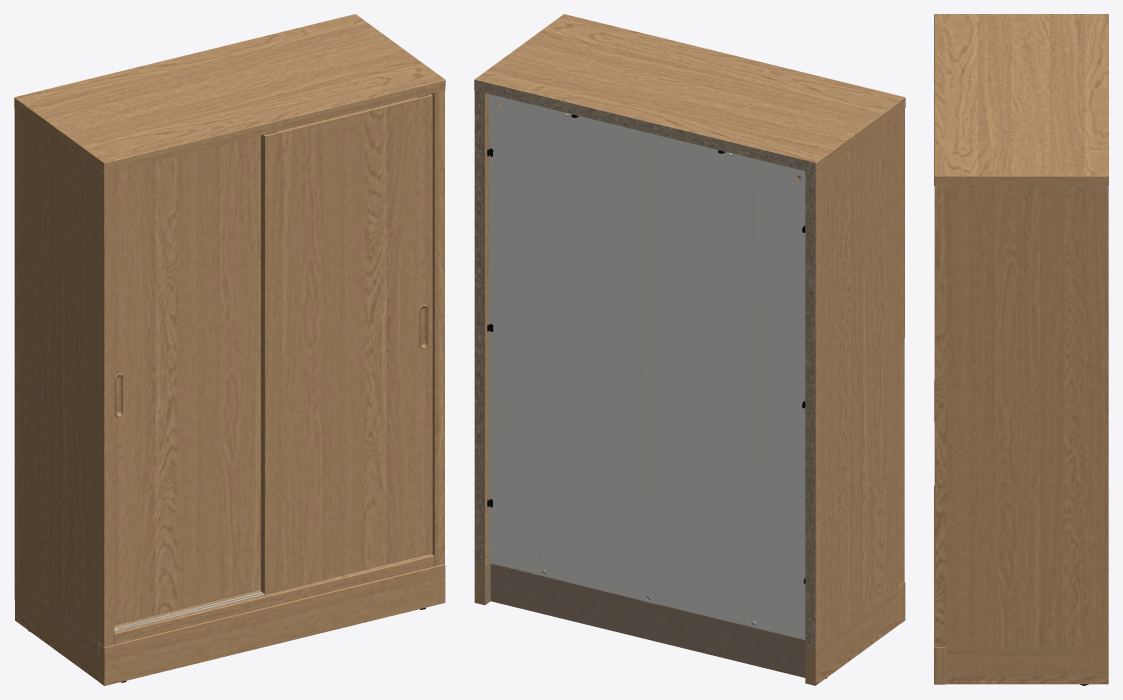
3 views of the same model, side by side, from view 1: azimuth 30°, elevation 25°; view 2: azimuth 150°, elevation 25°; view 3: azimuth 270°, elevation 25° (orthographic). The views are drawn at different scales.
Visible parts, largest first — view 1: ASY_ART_10489231_S01_NV01; view 2: ASY_ART_10489231_S01_NV01; view 3: ASY_ART_10489231_S01_NV01.
Boxes of the visible parts, <box> form: ASY_ART_10489231_S01_NV01: <box>14,14,445,685</box>; ASY_ART_10489231_S01_NV01: <box>474,14,905,685</box>; ASY_ART_10489231_S01_NV01: <box>934,14,1108,685</box>.
Bounding box in the file's own units: 0.8172 × 1.2 × 0.3721.
Materials: 1 (1 with a texture image).
